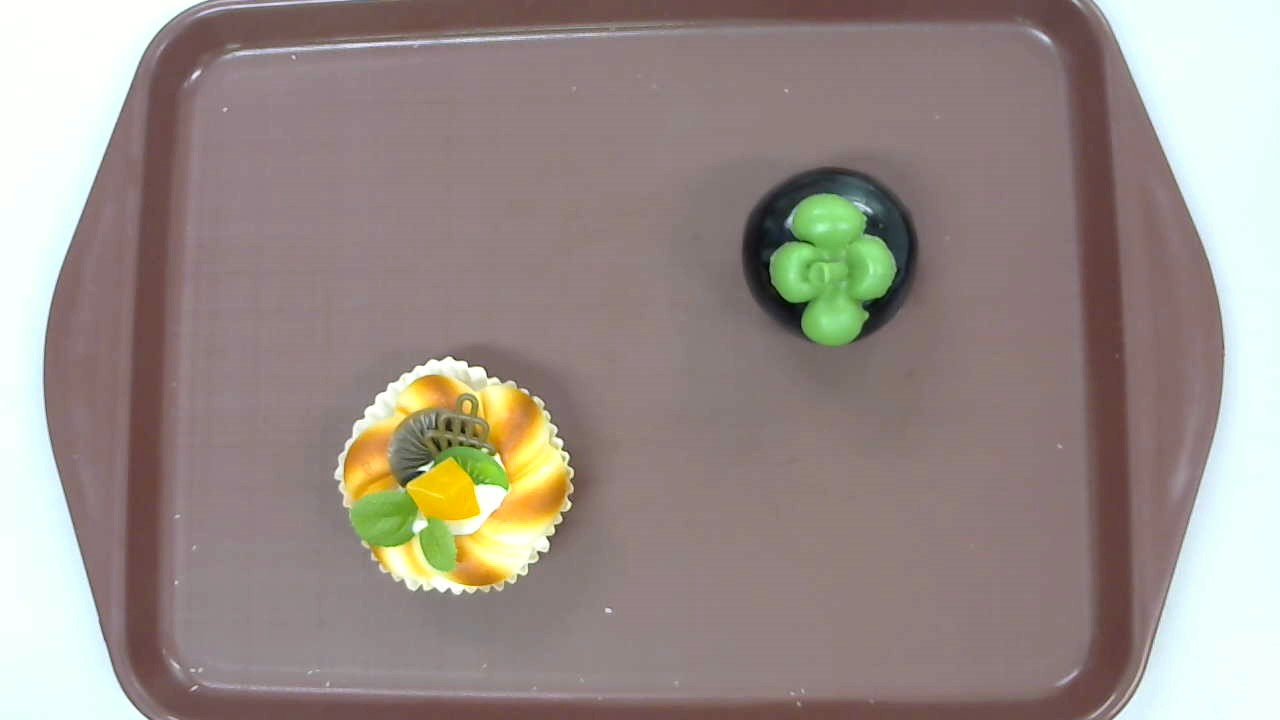fruit tart: (334, 357, 572, 595)
mangosteen: (741, 166, 919, 348)
